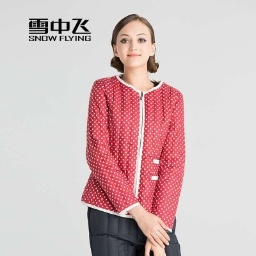face: (110, 13, 162, 74)
